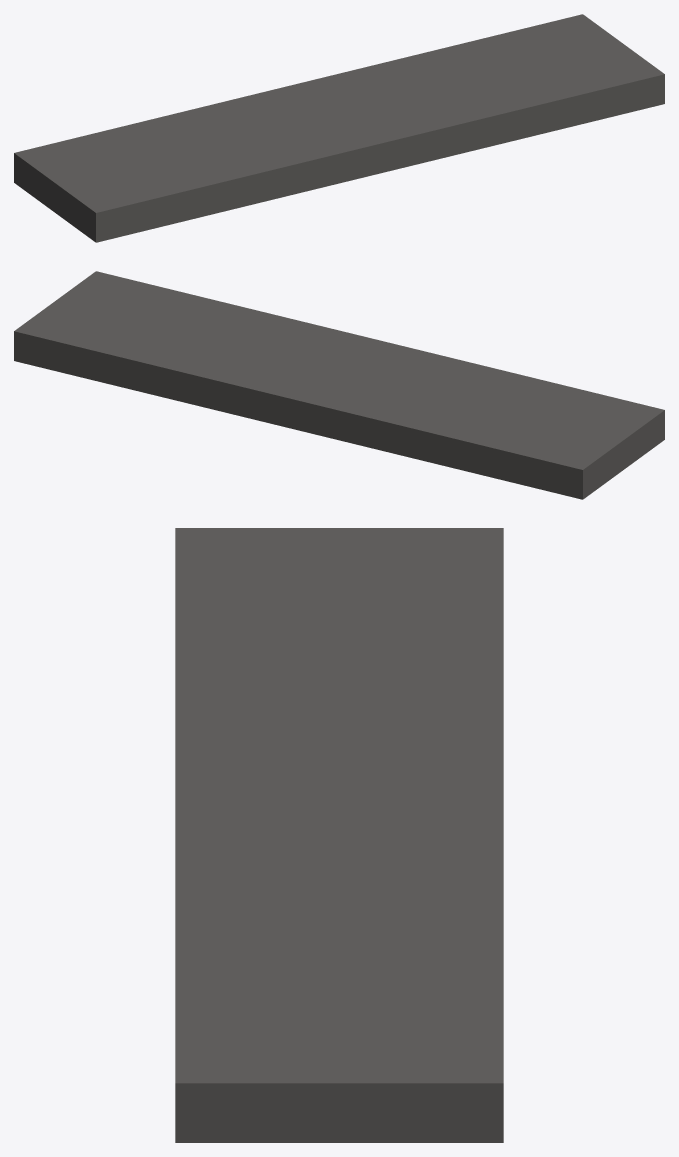
File: SM_Ground_NodeAsphalt_50x200_01.fbx
3 renders of one model, top to bottom at view 1: azimuth 30°, elevation 25°; view 2: azimuth 150°, elevation 25°; view 3: azimuth 270°, elevation 25°, orthographic. The views are drawn at different scales.
Visible parts, largest first — view 1: SM_Ground_NodeAsphalt_50x200_01; view 2: SM_Ground_NodeAsphalt_50x200_01; view 3: SM_Ground_NodeAsphalt_50x200_01.
Boxes of the visible parts, x1,y1,x2,y2 form: SM_Ground_NodeAsphalt_50x200_01: (14,14,664,242); SM_Ground_NodeAsphalt_50x200_01: (14,271,664,499); SM_Ground_NodeAsphalt_50x200_01: (175,528,503,1142).
Size of the model in its own units: 2 by 0.1 by 0.5.
1 material, 1 textured.
